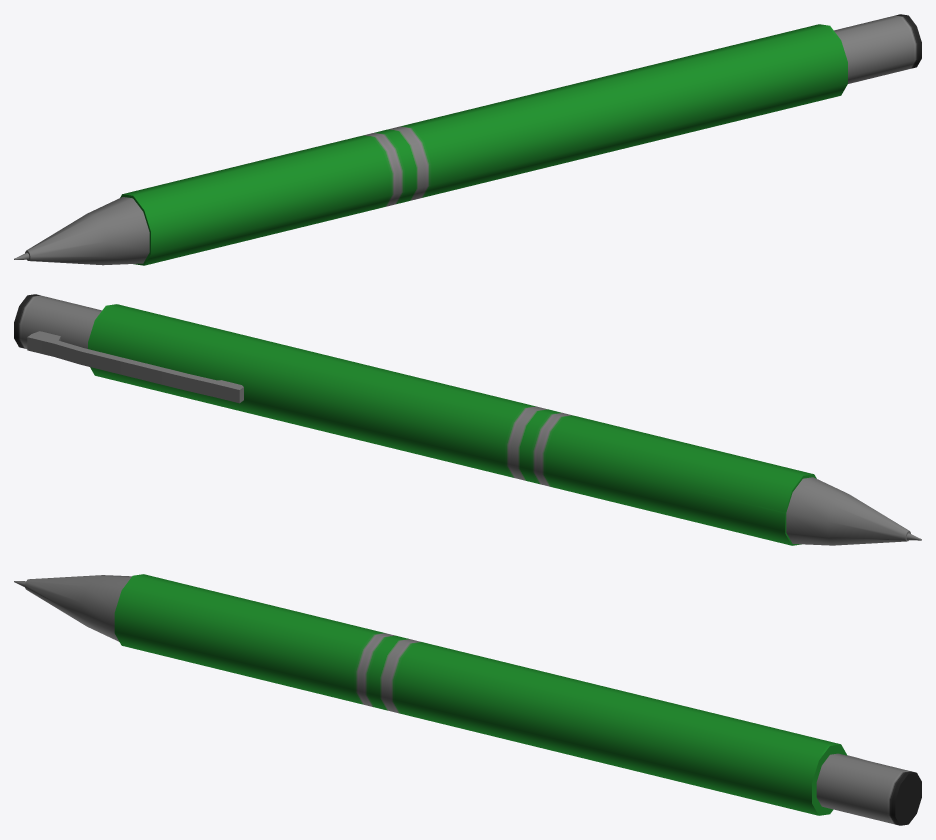
The model's file is pen green.FBX.
3 views of the same model, one above another, from view 1: azimuth 30°, elevation 25°; view 2: azimuth 150°, elevation 25°; view 3: azimuth 330°, elevation 25° (orthographic).
Parts seen in each view (by area): view 1: pen green; view 2: pen green; view 3: pen green.
Boxes of the visible parts, left/top/right/bottom form: pen green: left=14, top=14, right=921, bottom=265; pen green: left=14, top=294, right=921, bottom=545; pen green: left=14, top=574, right=921, bottom=825.
Size of the model in its own units: 7.34 by 0.5998 by 0.5365.
Materials: 1 (1 with a texture image).
